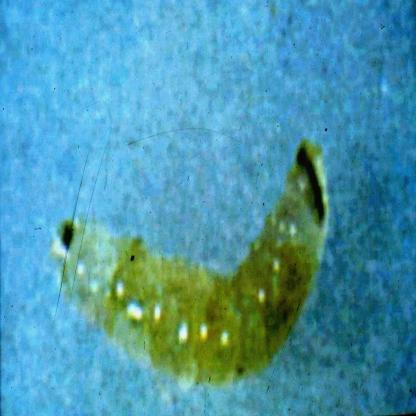whorl-maggot: (50, 138, 332, 392)
